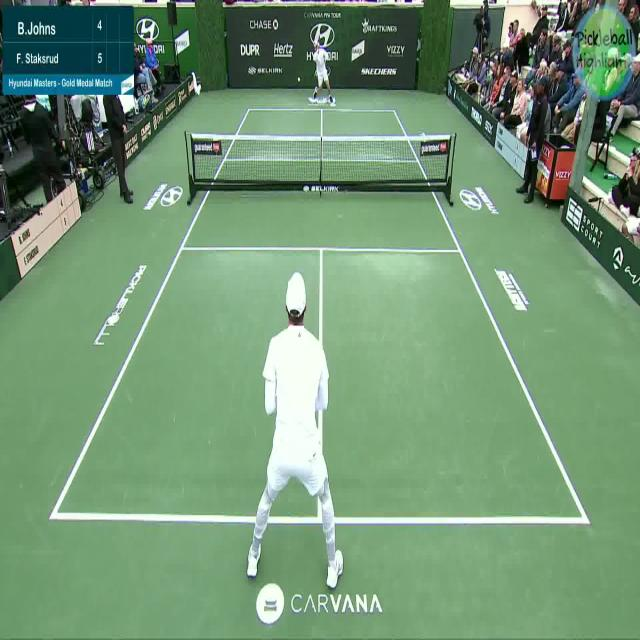ball: (296, 73, 302, 82)
